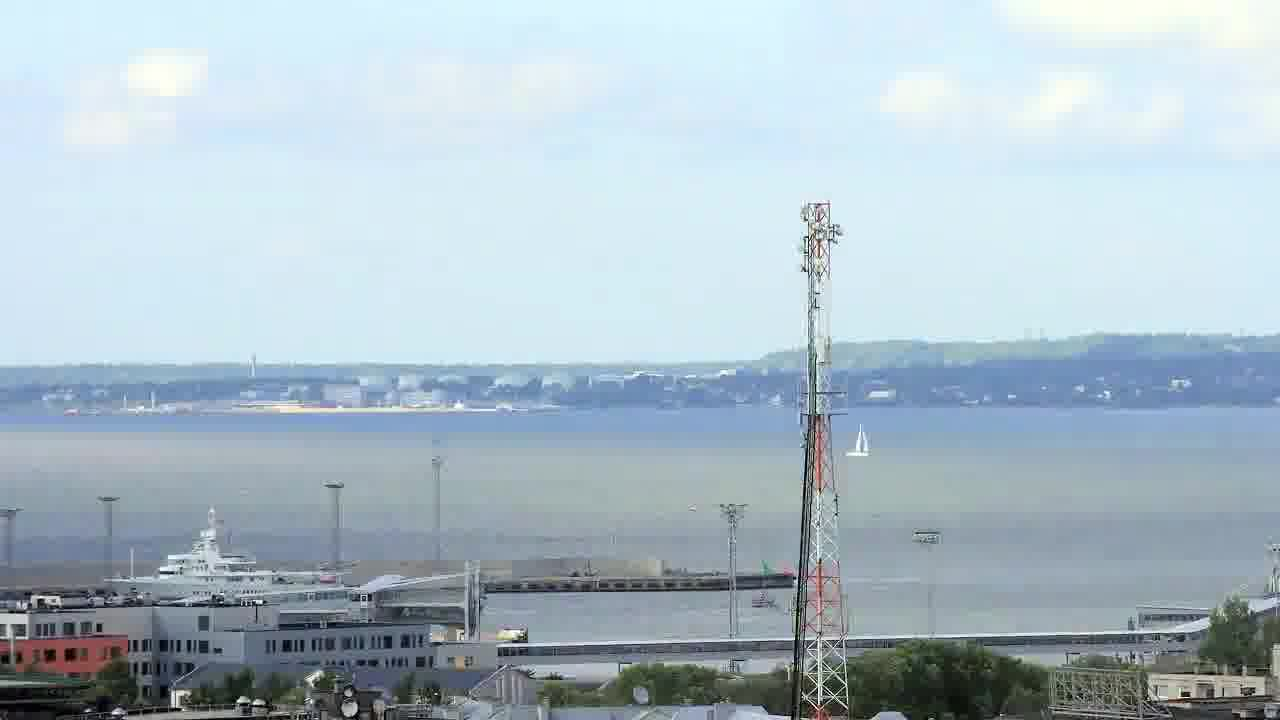type-0: (744, 574, 795, 623)
type-2: (841, 425, 880, 467)
type-3: (84, 515, 355, 603)
